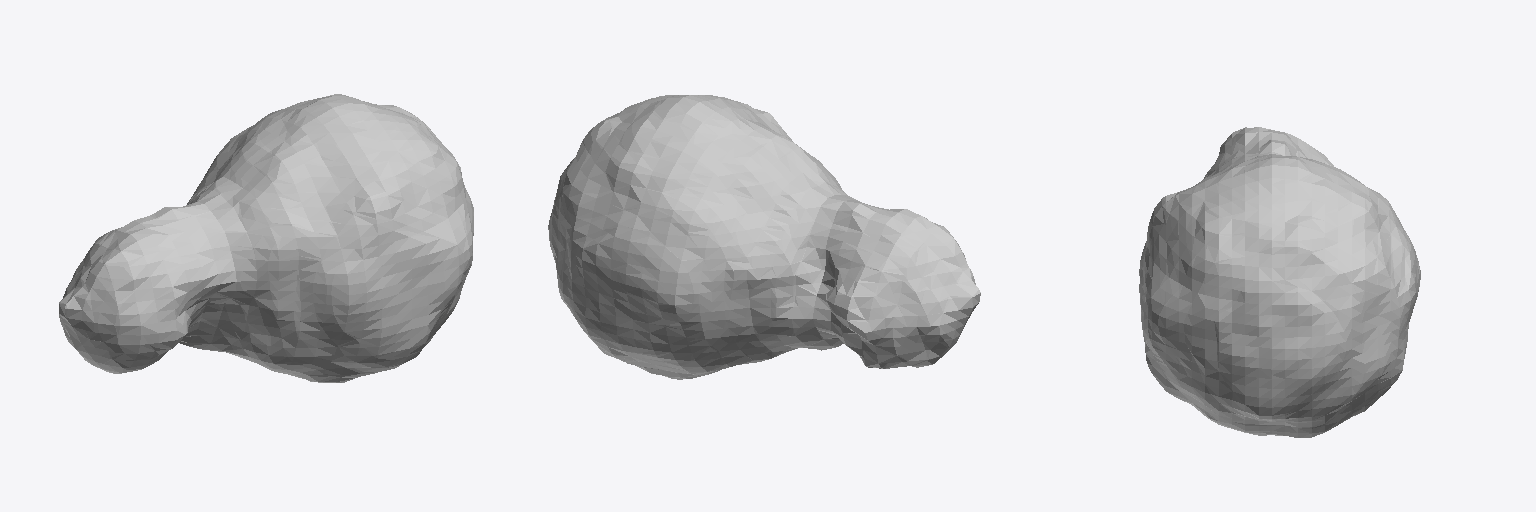
Rendered from rock4.obj.
3 renders of one model, left to right at view 1: azimuth 30°, elevation 25°; view 2: azimuth 150°, elevation 25°; view 3: azimuth 270°, elevation 25°, orthographic.
Bounding box in the file's own units: 4.35 × 2.76 × 2.62.